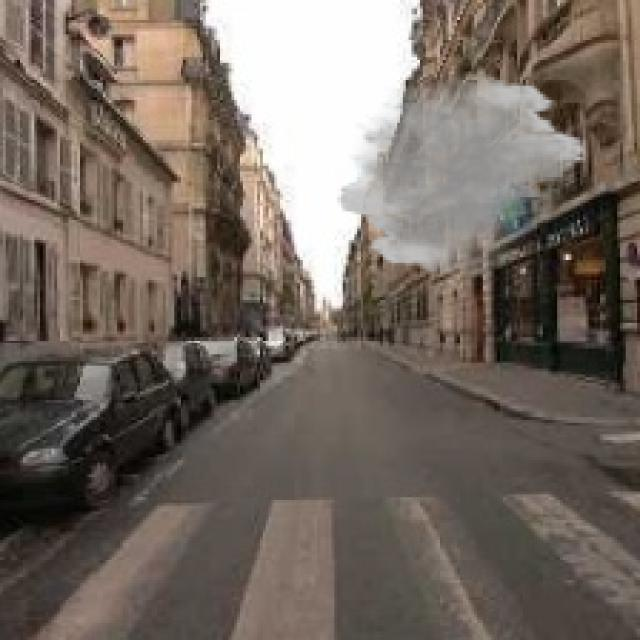Smoke: (334, 71, 589, 278)
